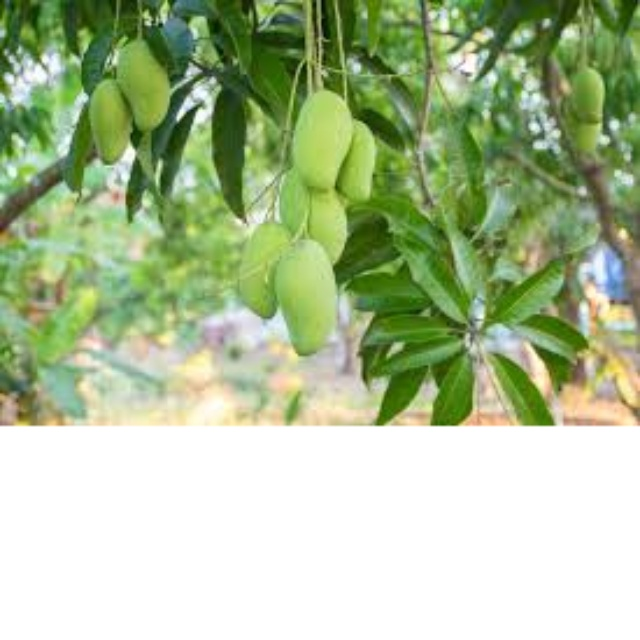thanh_long: (272, 239, 343, 360), (290, 85, 355, 188), (116, 36, 175, 133)
